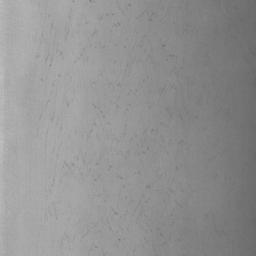Silk spot: (45, 52, 53, 67)
